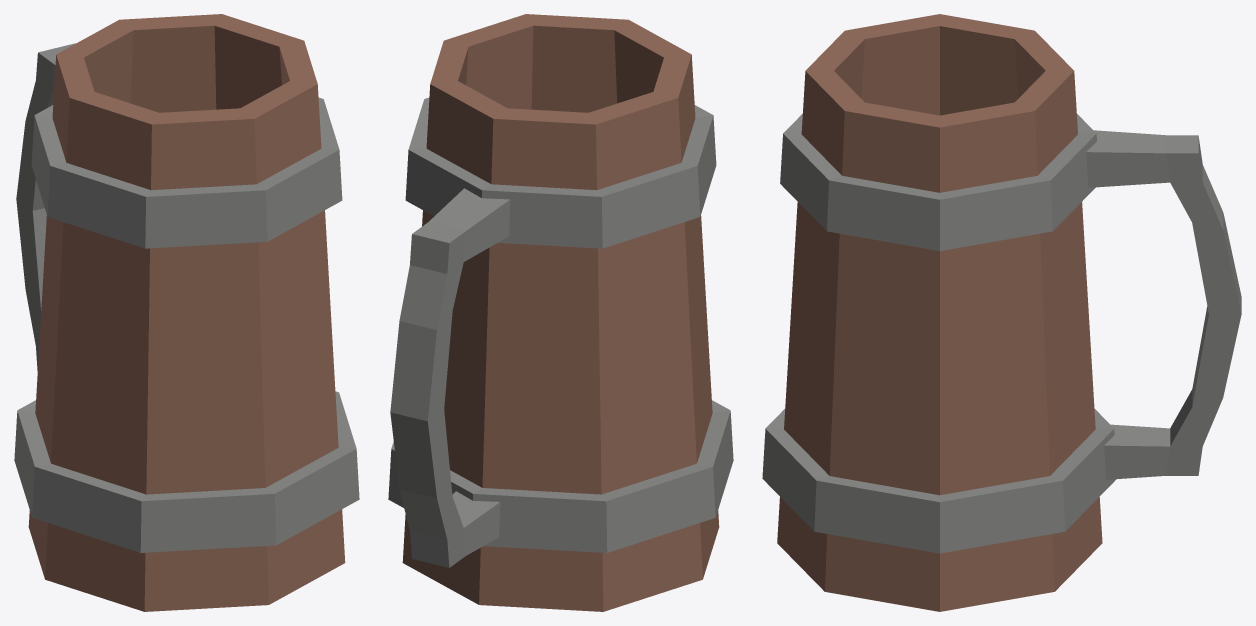
Rendered from Tankard.fbx.
3 views of the same model, side by side, from view 1: azimuth 30°, elevation 25°; view 2: azimuth 150°, elevation 25°; view 3: azimuth 270°, elevation 25° (orthographic).
Visible parts, largest first — view 1: Tankard; view 2: Tankard; view 3: Tankard.
Part boxes in pixels (box(x1,y1,x2,y2)): Tankard: box(14, 14, 359, 611); Tankard: box(388, 14, 733, 611); Tankard: box(762, 14, 1241, 611).
Bounding box in the file's own units: 27.98 × 41.11 × 37.78.
